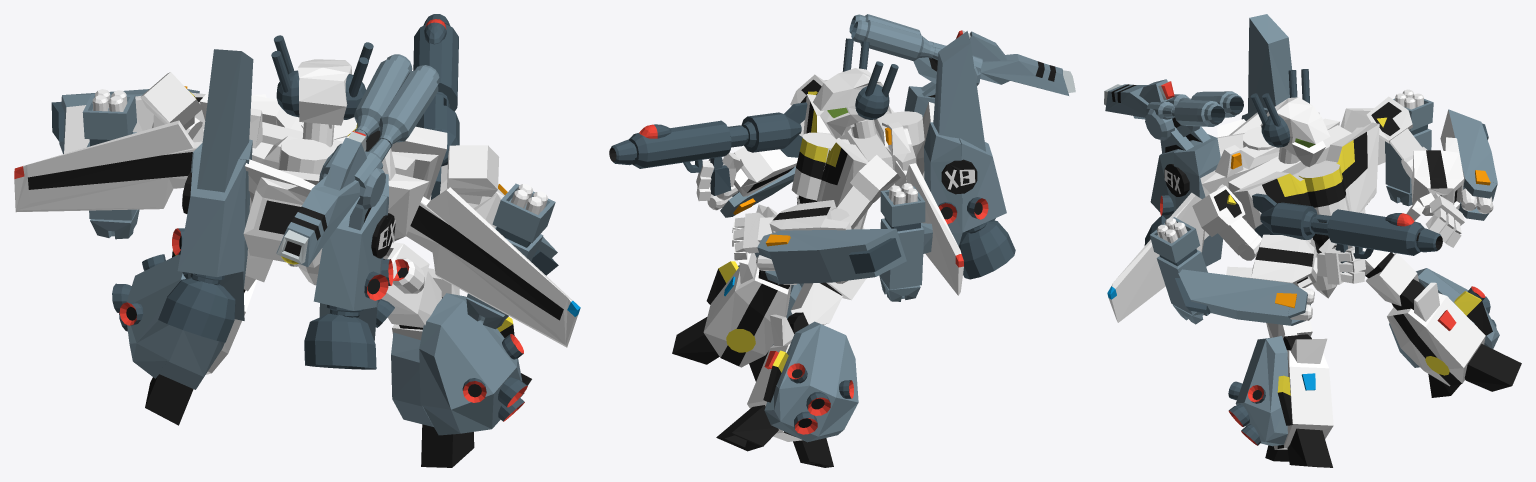
File: scene_EJ2xXnG0gX.glb
3 renders of one model, left to right at view 1: azimuth 30°, elevation 25°; view 2: azimuth 150°, elevation 25°; view 3: azimuth 270°, elevation 25°, orthographic. The views are drawn at different scales.
Parts seen in each view (by area): view 1: group884036997, group1525127831, group882022319, group725434405, group309855935, group678940779, group389972112, group333454728, group910362158, group420873491, group1180049764, group643757122 (+14 smaller); view 2: group389972112, group884036997, group632614752, group1525127831, group910362158, group882022319, group174854150, group333454728, group1180049764, group1248290053, group309855935, group374827486 (+11 smaller); view 3: group1525127831, group389972112, group1248290053, group174854150, group910362158, group632614752, group882022319, group333454728, group678940779, group884036997, group725434405, group420873491 (+15 smaller).
Part boxes in pixels (<box>): group884036997: <box>158,49,253,342</box>; group1525127831: <box>391,268,531,467</box>; group882022319: <box>276,54,439,267</box>; group725434405: <box>406,187,580,347</box>; group309855935: <box>14,120,202,212</box>; group678940779: <box>304,173,395,369</box>; group389972112: <box>112,250,257,425</box>; group333454728: <box>271,35,373,128</box>; group910362158: <box>413,14,459,199</box>; group420873491: <box>466,183,555,329</box>; group1180049764: <box>82,89,139,239</box>; group643757122: <box>243,177,322,267</box>; group389972112: <box>716,314,858,467</box>; group884036997: <box>924,31,1015,279</box>; group632614752: <box>756,200,906,284</box>; group1525127831: <box>672,252,803,381</box>; group910362158: <box>609,102,807,195</box>; group882022319: <box>849,14,1075,95</box>; group174854150: <box>791,94,868,207</box>; group333454728: <box>813,38,898,139</box>; group1180049764: <box>879,183,932,301</box>; group1248290053: <box>707,146,797,217</box>; group309855935: <box>895,161,963,295</box>; group374827486: <box>787,282,842,333</box>; group1525127831: <box>1228,336,1333,467</box>; group389972112: <box>1387,268,1521,397</box>; group1248290053: <box>1175,234,1317,325</box>; group174854150: <box>1233,122,1379,242</box>; group910362158: <box>1252,193,1442,272</box>; group632614752: <box>1411,109,1497,220</box>; group882022319: <box>1104,79,1243,140</box>; group333454728: <box>1250,69,1330,166</box>; group678940779: <box>1144,134,1222,266</box>; group884036997: <box>1241,14,1292,120</box>; group725434405: <box>1107,184,1224,322</box>; group420873491: <box>1150,217,1210,324</box>.
Size of the model in its own units: 1.33 by 1.4 by 1.45.
